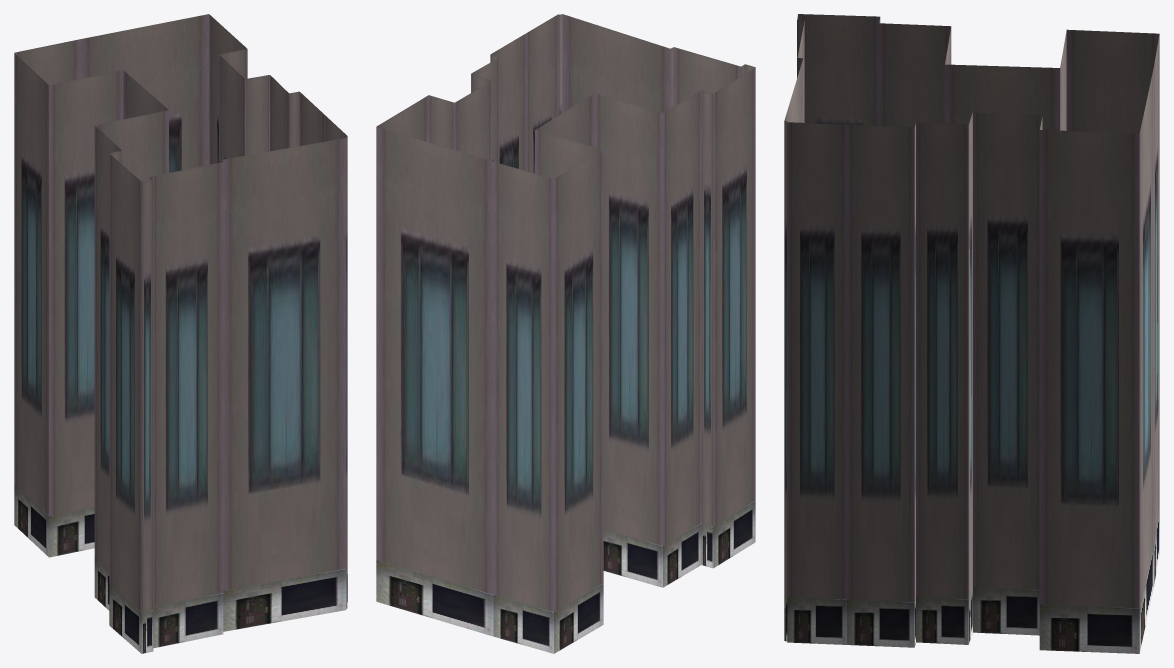
File: building.obj
3 renders of one model, left to right at view 1: azimuth 30°, elevation 25°; view 2: azimuth 150°, elevation 25°; view 3: azimuth 270°, elevation 25°, orthographic. The views are drawn at different scales.
Visible parts, largest first — view 1: TaipeiGovBuilding_890421; view 2: TaipeiGovBuilding_890421; view 3: TaipeiGovBuilding_890421.
Part boxes in pixels (bbox=[...]): TaipeiGovBuilding_890421: bbox=[14, 14, 347, 653]; TaipeiGovBuilding_890421: bbox=[376, 14, 755, 653]; TaipeiGovBuilding_890421: bbox=[784, 14, 1159, 653].
Size of the model in its own units: 18.58 by 37.69 by 24.63.
Materials: 1 (1 with a texture image).
